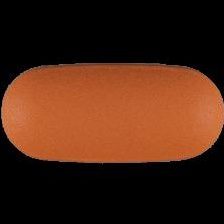49702-206: (0, 0, 224, 224)
